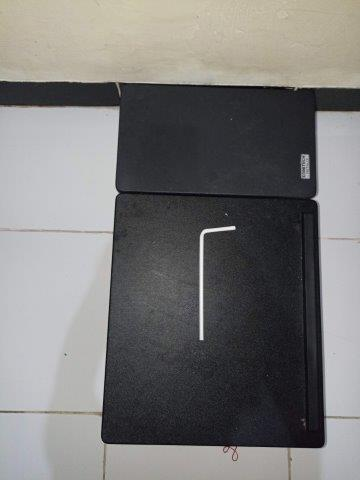karet: (223, 446, 239, 461)
sedotan: (199, 226, 236, 340)
